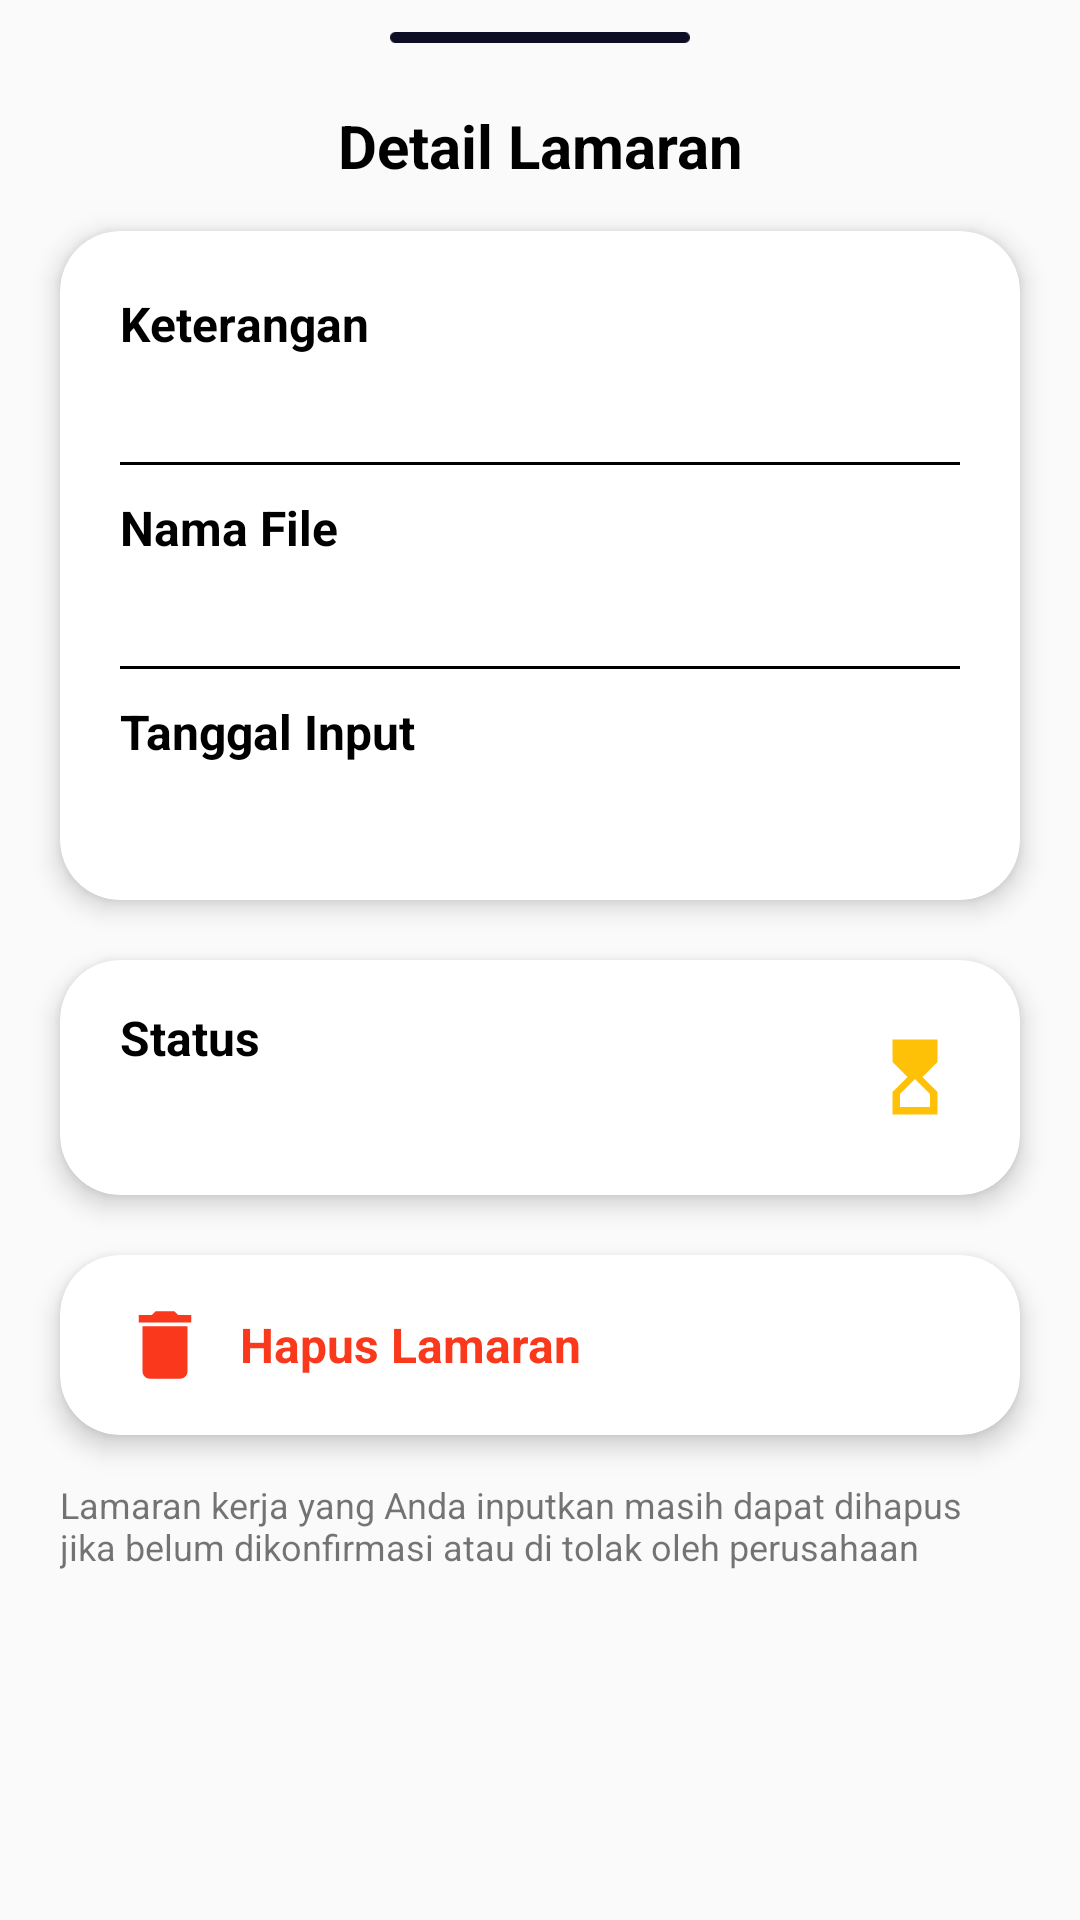

Locate icon controls on the screen. Image size 1080w x 1920h, boxes as (x1, y1, x2, y2).
delete: (138, 1311, 192, 1379)
hourglass top: (892, 1039, 938, 1115)
